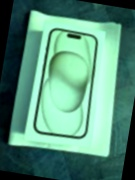iphone: (36, 21, 105, 135)
